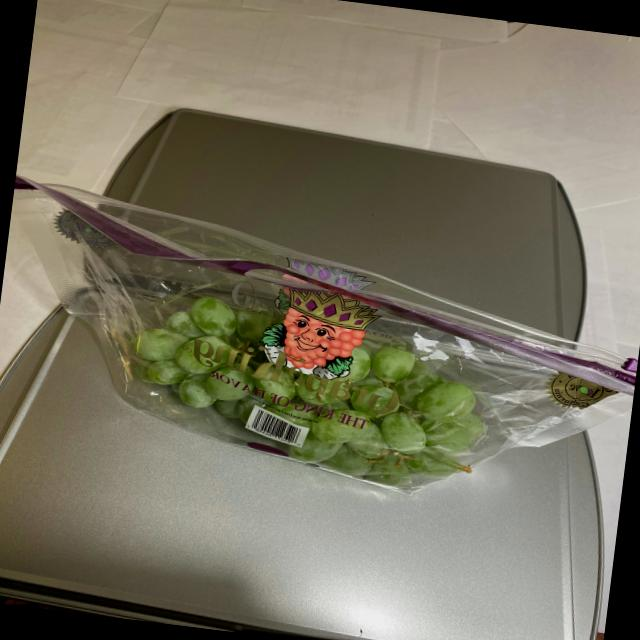grapes: (80, 275, 508, 499)
